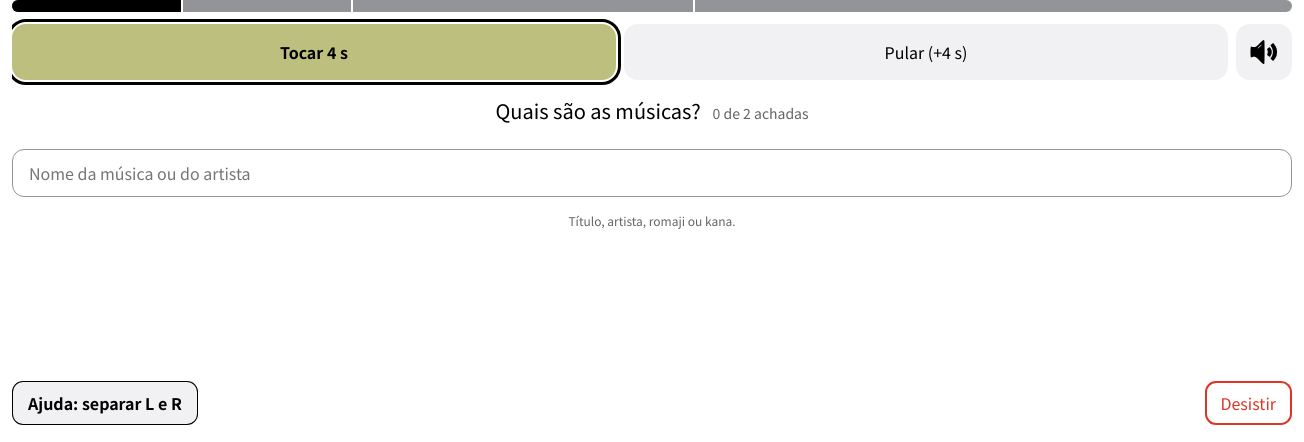
Scenario: MixedRoundView (M17) › o erro para o som e libera o trecho seguinte
Click the button "Tocar 4 s" at (314, 52), box 12,24 -> 616,80
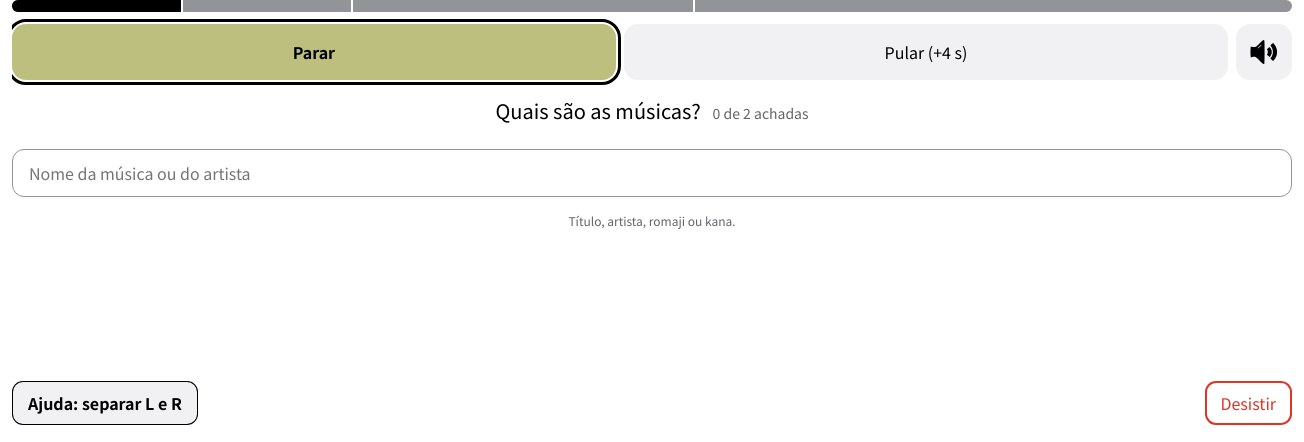
Type "Música 3" into the dropdown labelled "Quais são as músicas?" at (652, 173), box 12,149 -> 1292,197
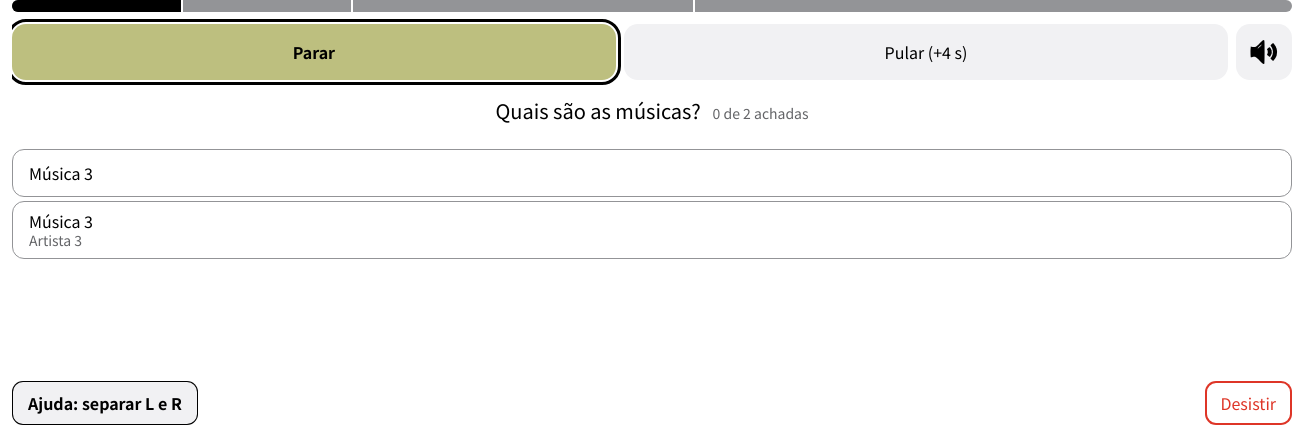
Click the option "Música 3 Artista 3" at (61, 230), box 29,209 -> 93,250
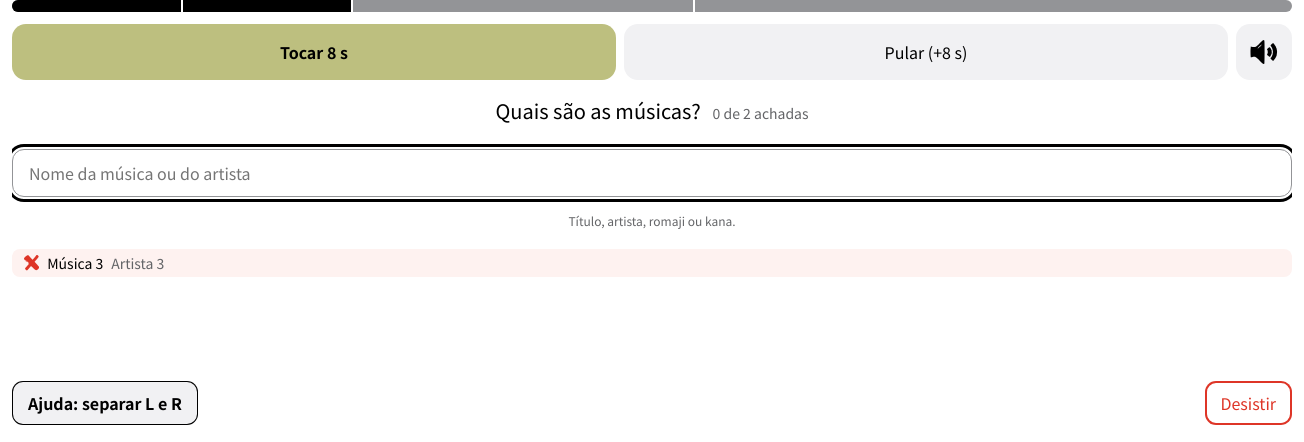
Now the button "Tocar 8 s" is shown, box 12,24 -> 616,80
